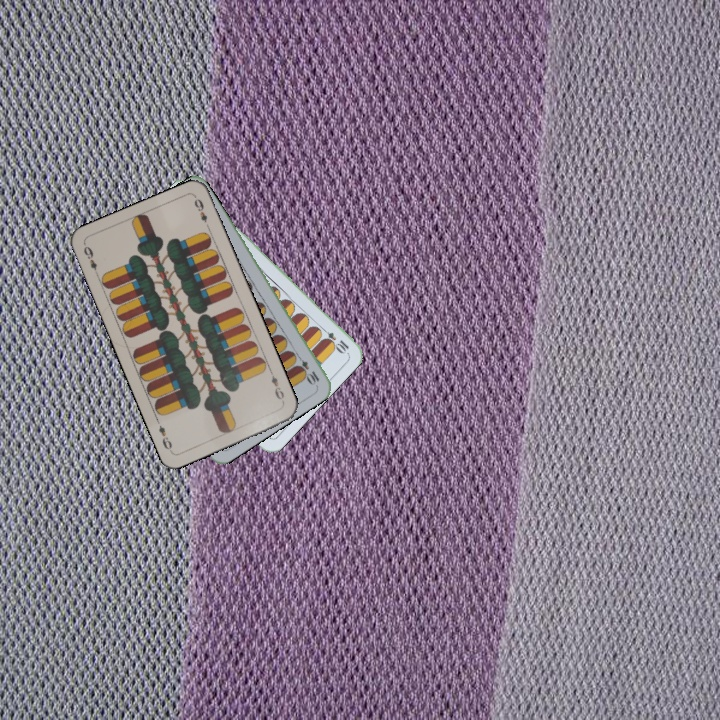E10: (316, 323, 352, 355), (291, 350, 322, 387)
E9: (79, 242, 101, 280), (266, 367, 287, 406)
